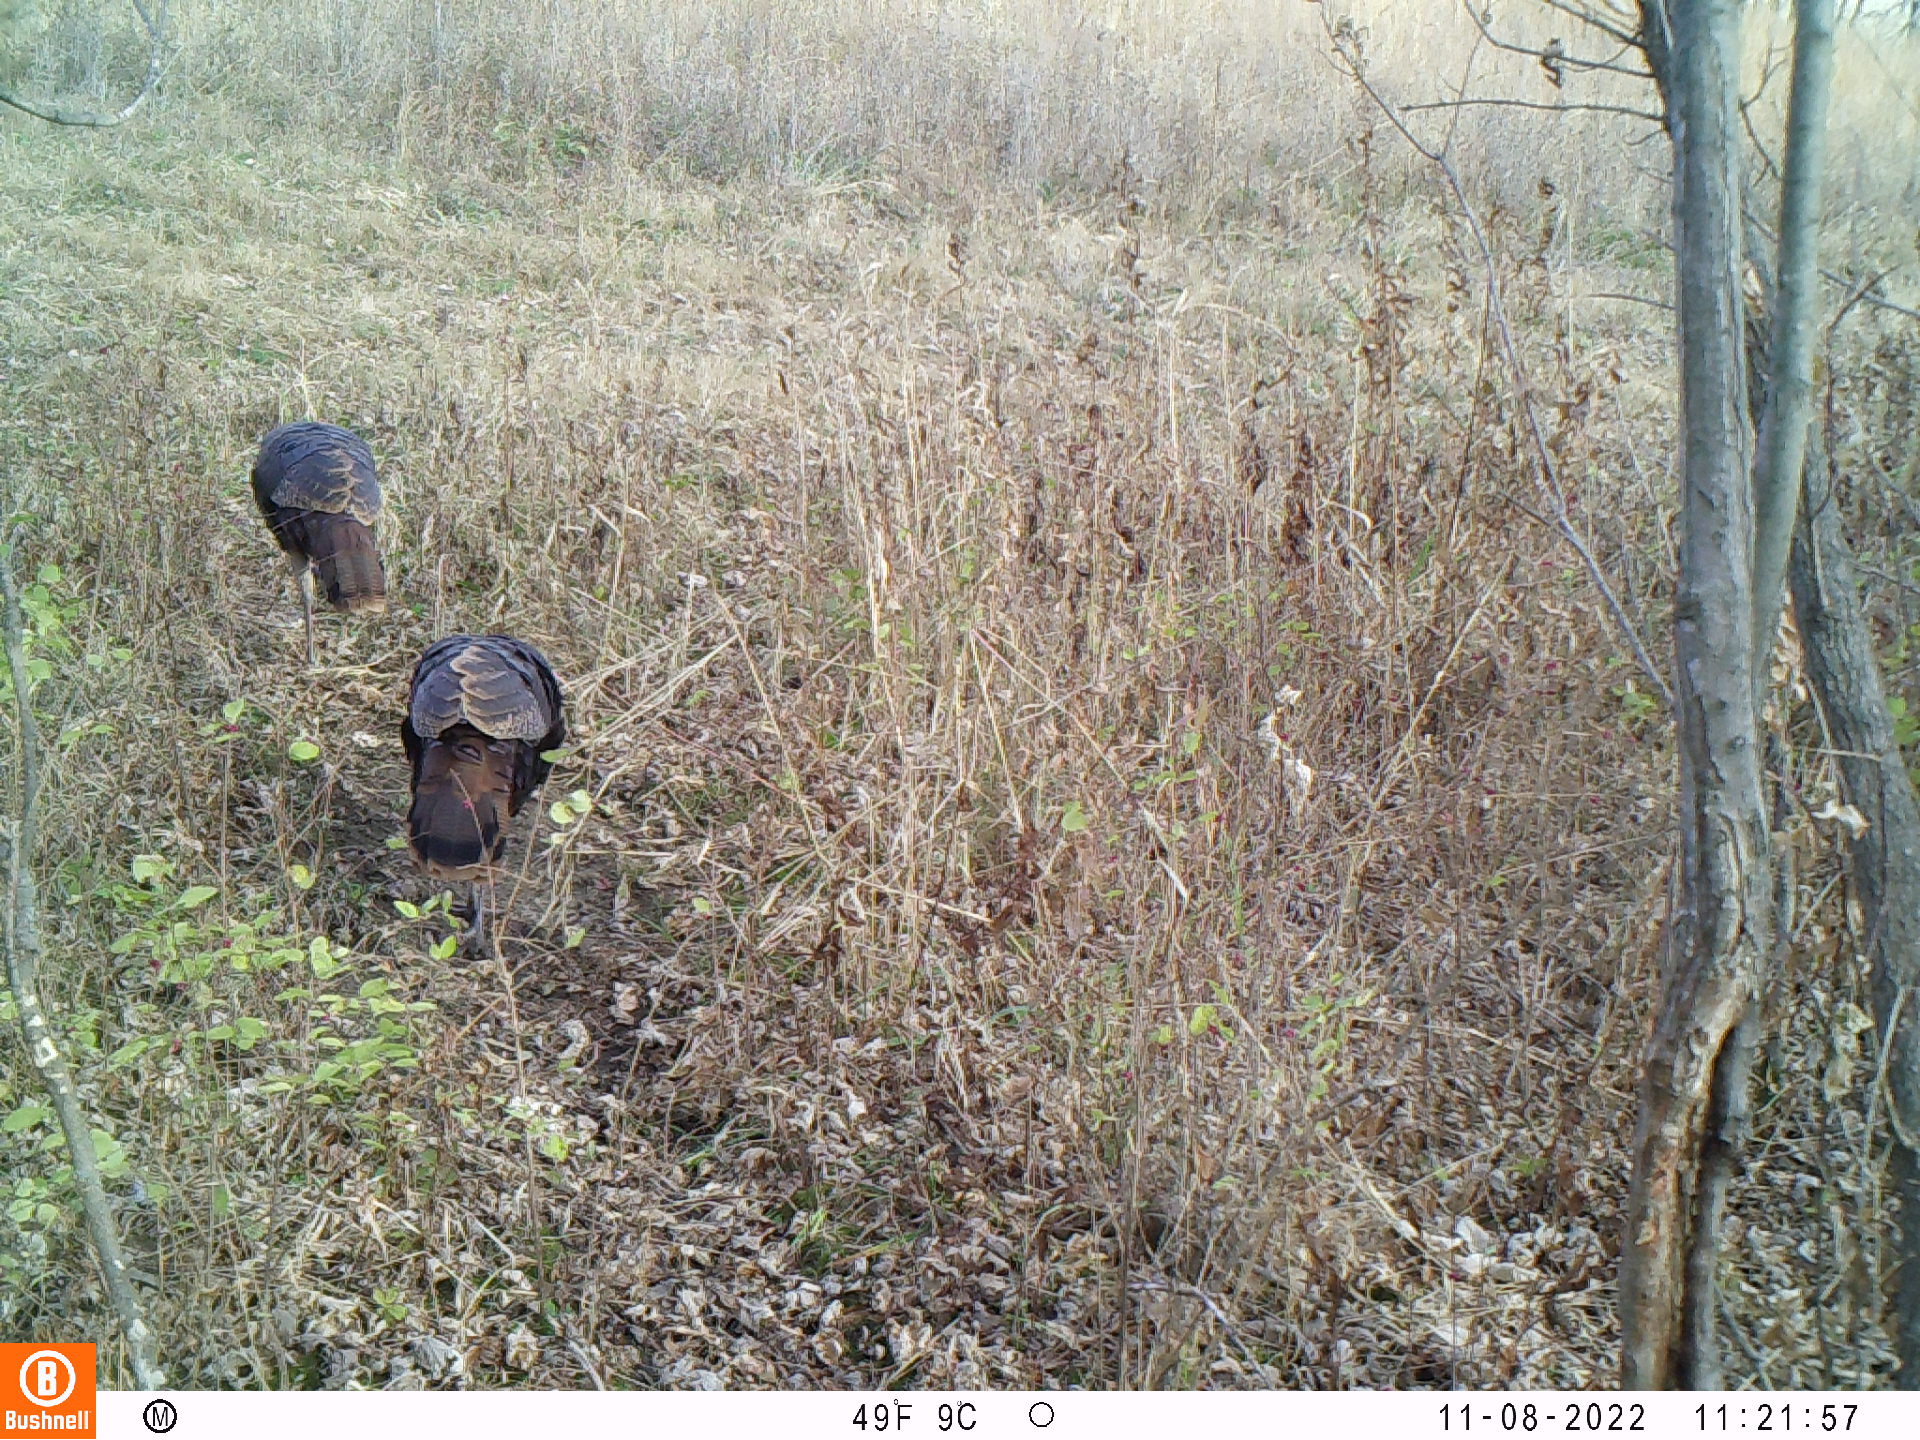Turkey: (399, 629, 567, 871), (249, 416, 390, 614)
